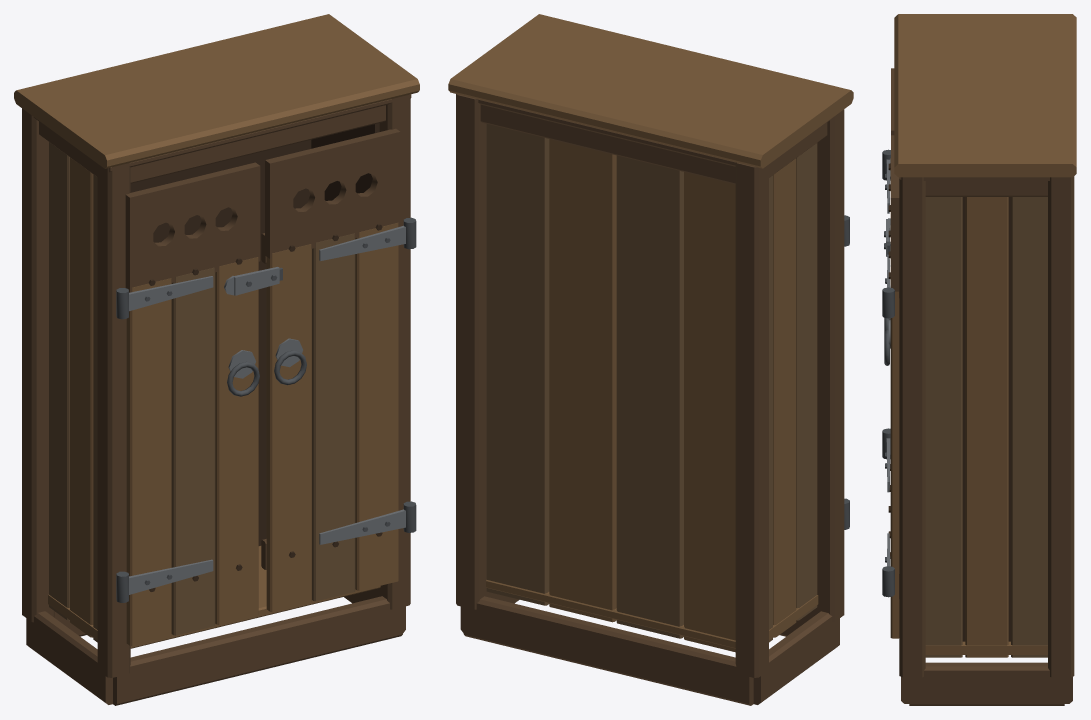
File: SM_LPD_Furn_CupboardClosed_01.fbx
3 views of the same model, side by side, from view 1: azimuth 30°, elevation 25°; view 2: azimuth 150°, elevation 25°; view 3: azimuth 270°, elevation 25° (orthographic).
Visible parts, largest first — view 1: SM_LPD_Furn_CupboardClosed_01; view 2: SM_LPD_Furn_CupboardClosed_01; view 3: SM_LPD_Furn_CupboardClosed_01.
Part boxes in pixels (left/top/right/bottom): SM_LPD_Furn_CupboardClosed_01: left=14, top=14, right=419, bottom=705; SM_LPD_Furn_CupboardClosed_01: left=448, top=14, right=853, bottom=705; SM_LPD_Furn_CupboardClosed_01: left=882, top=14, right=1076, bottom=705.
Size of the model in its own units: 1.05 by 1.78 by 0.576.
